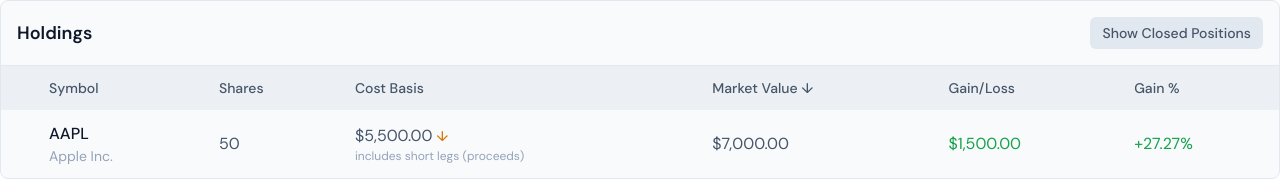
Test: HoldingsTable — short positions › flags a consolidated row that mixes long and short legs
Expected: the text "includes short legs (proceeds)" is shown, [355,148,524,164]
What coordinates should you click on to do the following:
click the button named "This total combines long and short legs"
I would click on:
 (442, 136)
Its box is [436,127,448,145].
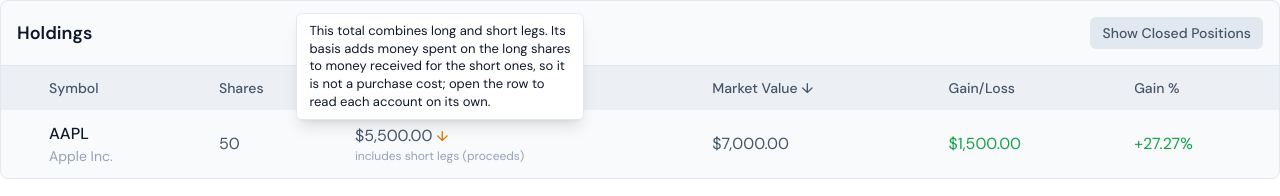
Now the tooltip "adds money spent on the long shares to money received" is shown, box [309,22,571,110]
